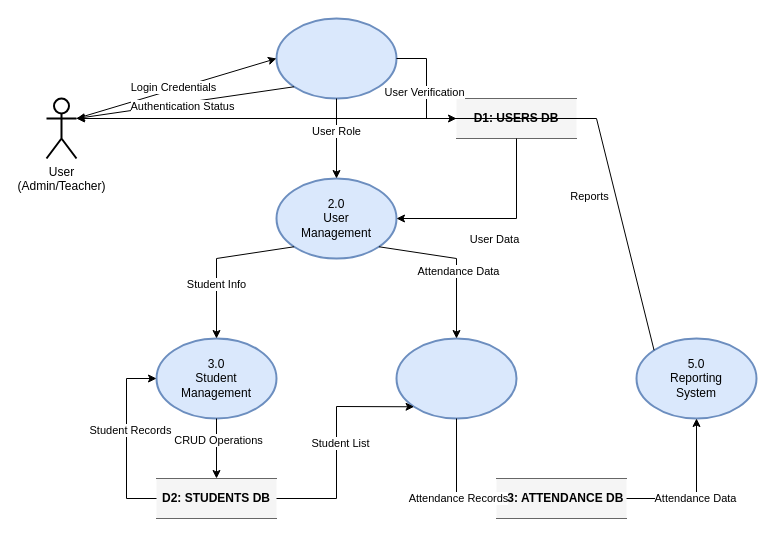
Some shapes in this 774 by 536 pixel diagram are drawn without their labels. The shapes that lost their labels are listed below. From the top down, each one's centre as x and y in pixels, then its label:
point 336,58: 1.0 User Authentication
point 456,378: 4.0 Attendance Recording
